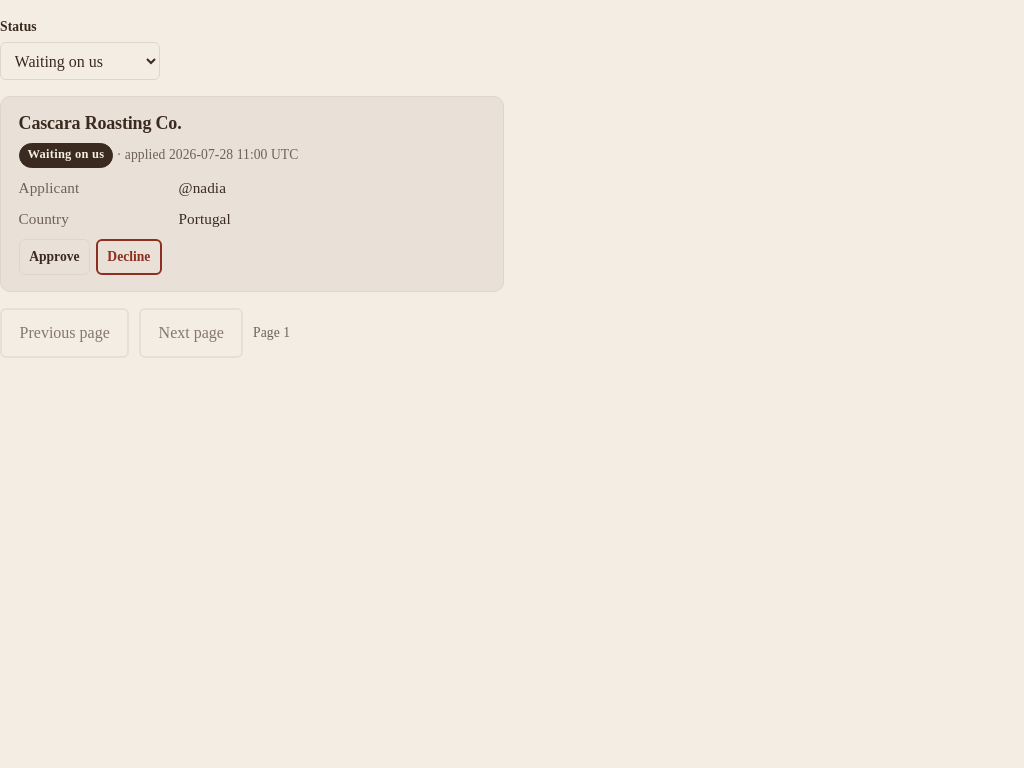
Scenario: seller applications › requires a reason to decline
Expected: the heading "Cascara Roasting Co." is shown, [19,113,182,133]
Step 1. Click the button named "decline cascara roasting co." → point(129, 257), box [96,239,162,275]
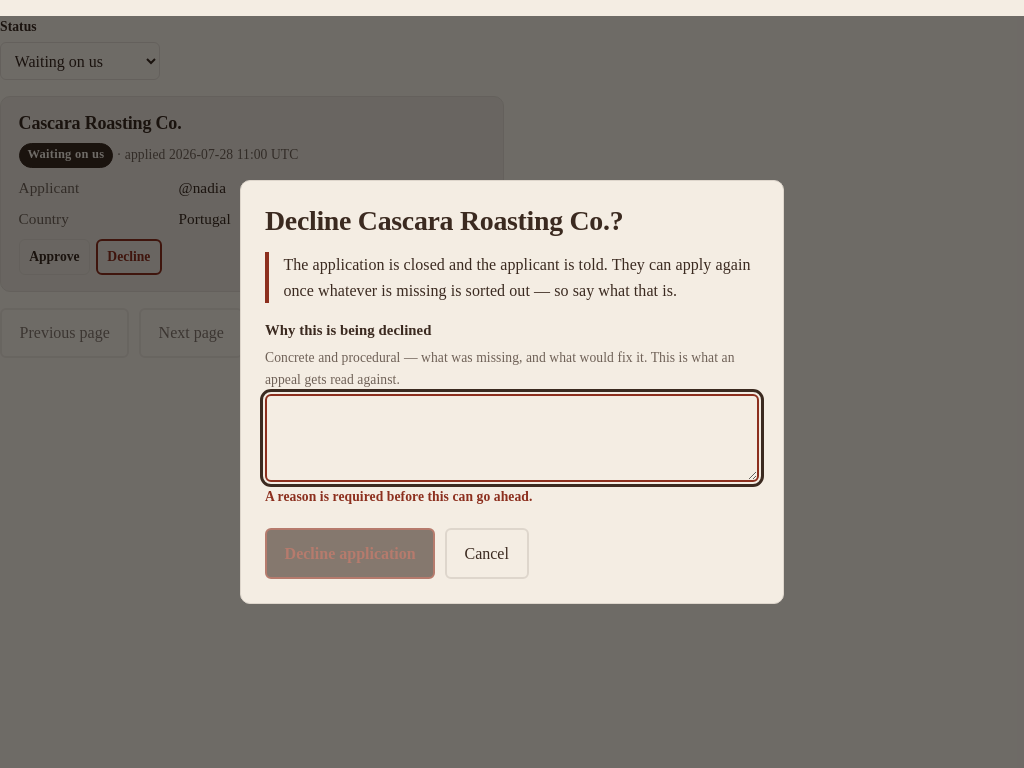
Result: the button "Decline application" is disabled at [265,528,435,579]
Step 2. Type "No verifiable trading address yet." into the text box labelled "Why this is being declined" → point(512, 438), box [265,394,759,482]
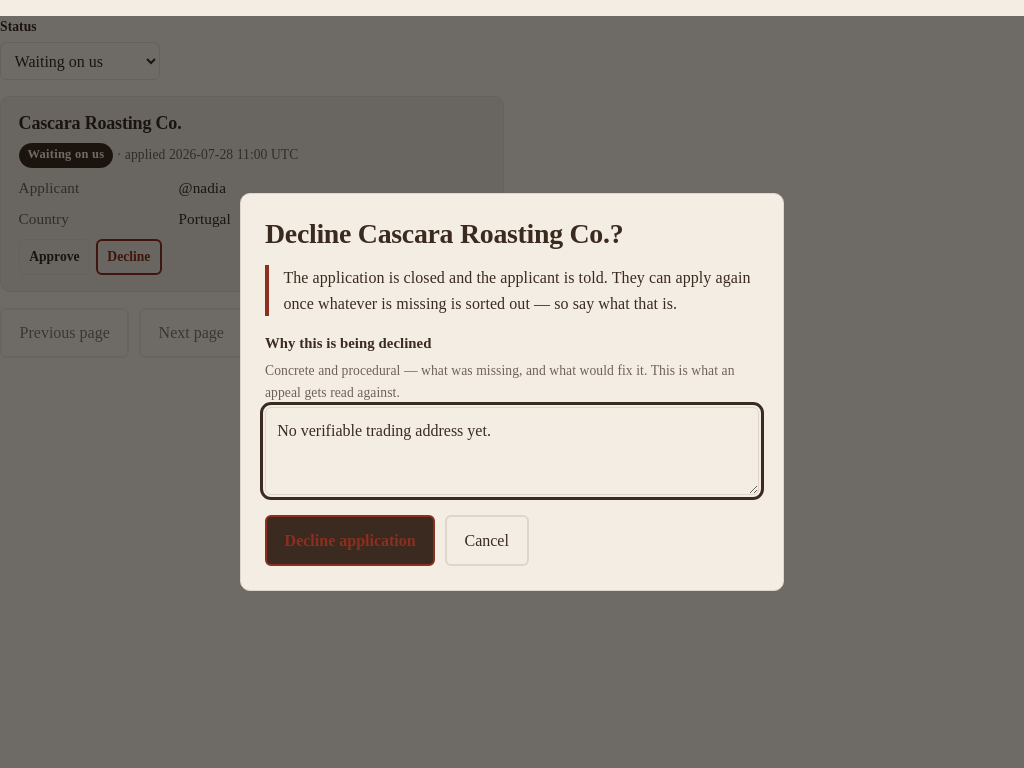
Result: the button "Decline application" is enabled at [265,515,435,566]
